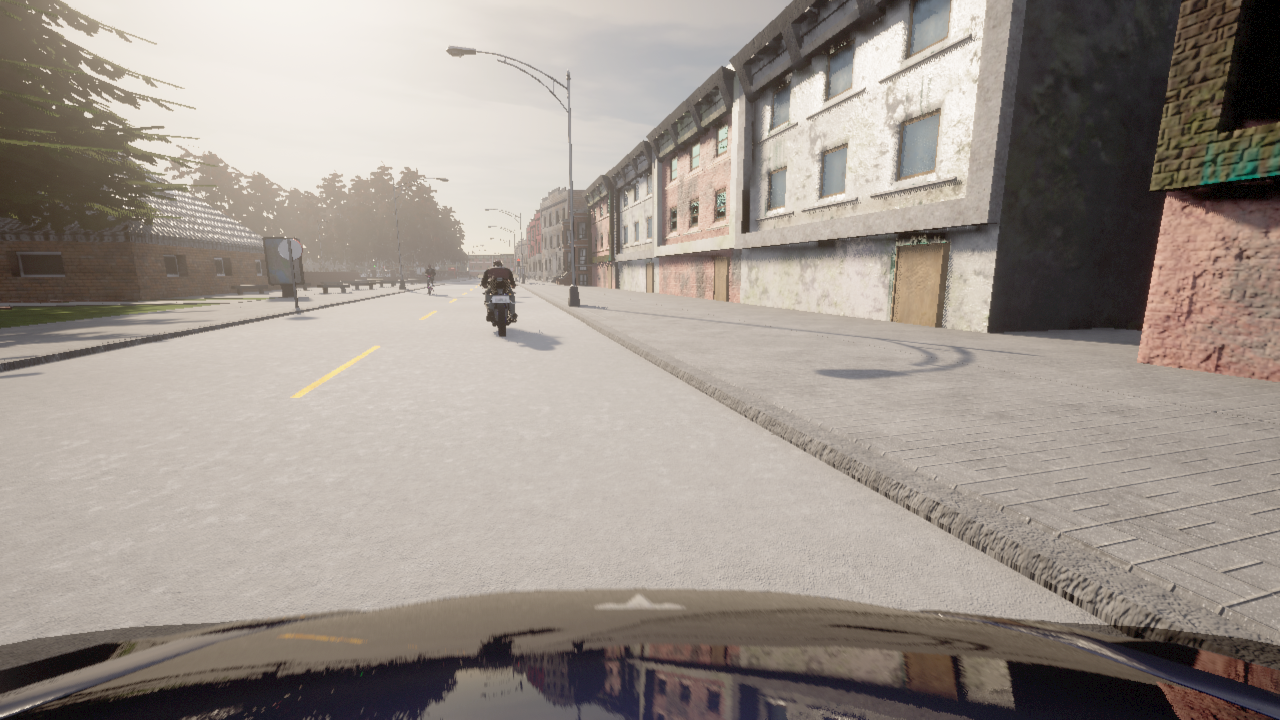cyclist: (0, 588, 1279, 719), (477, 274, 518, 336), (428, 278, 433, 294)
